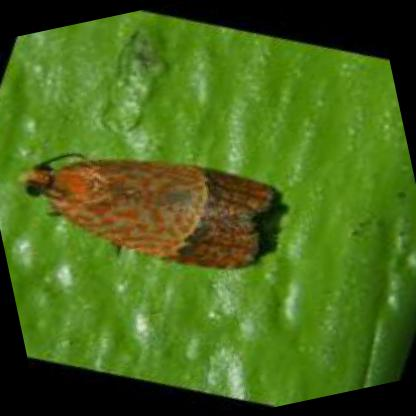Leaf Webber: (18, 146, 281, 272)
